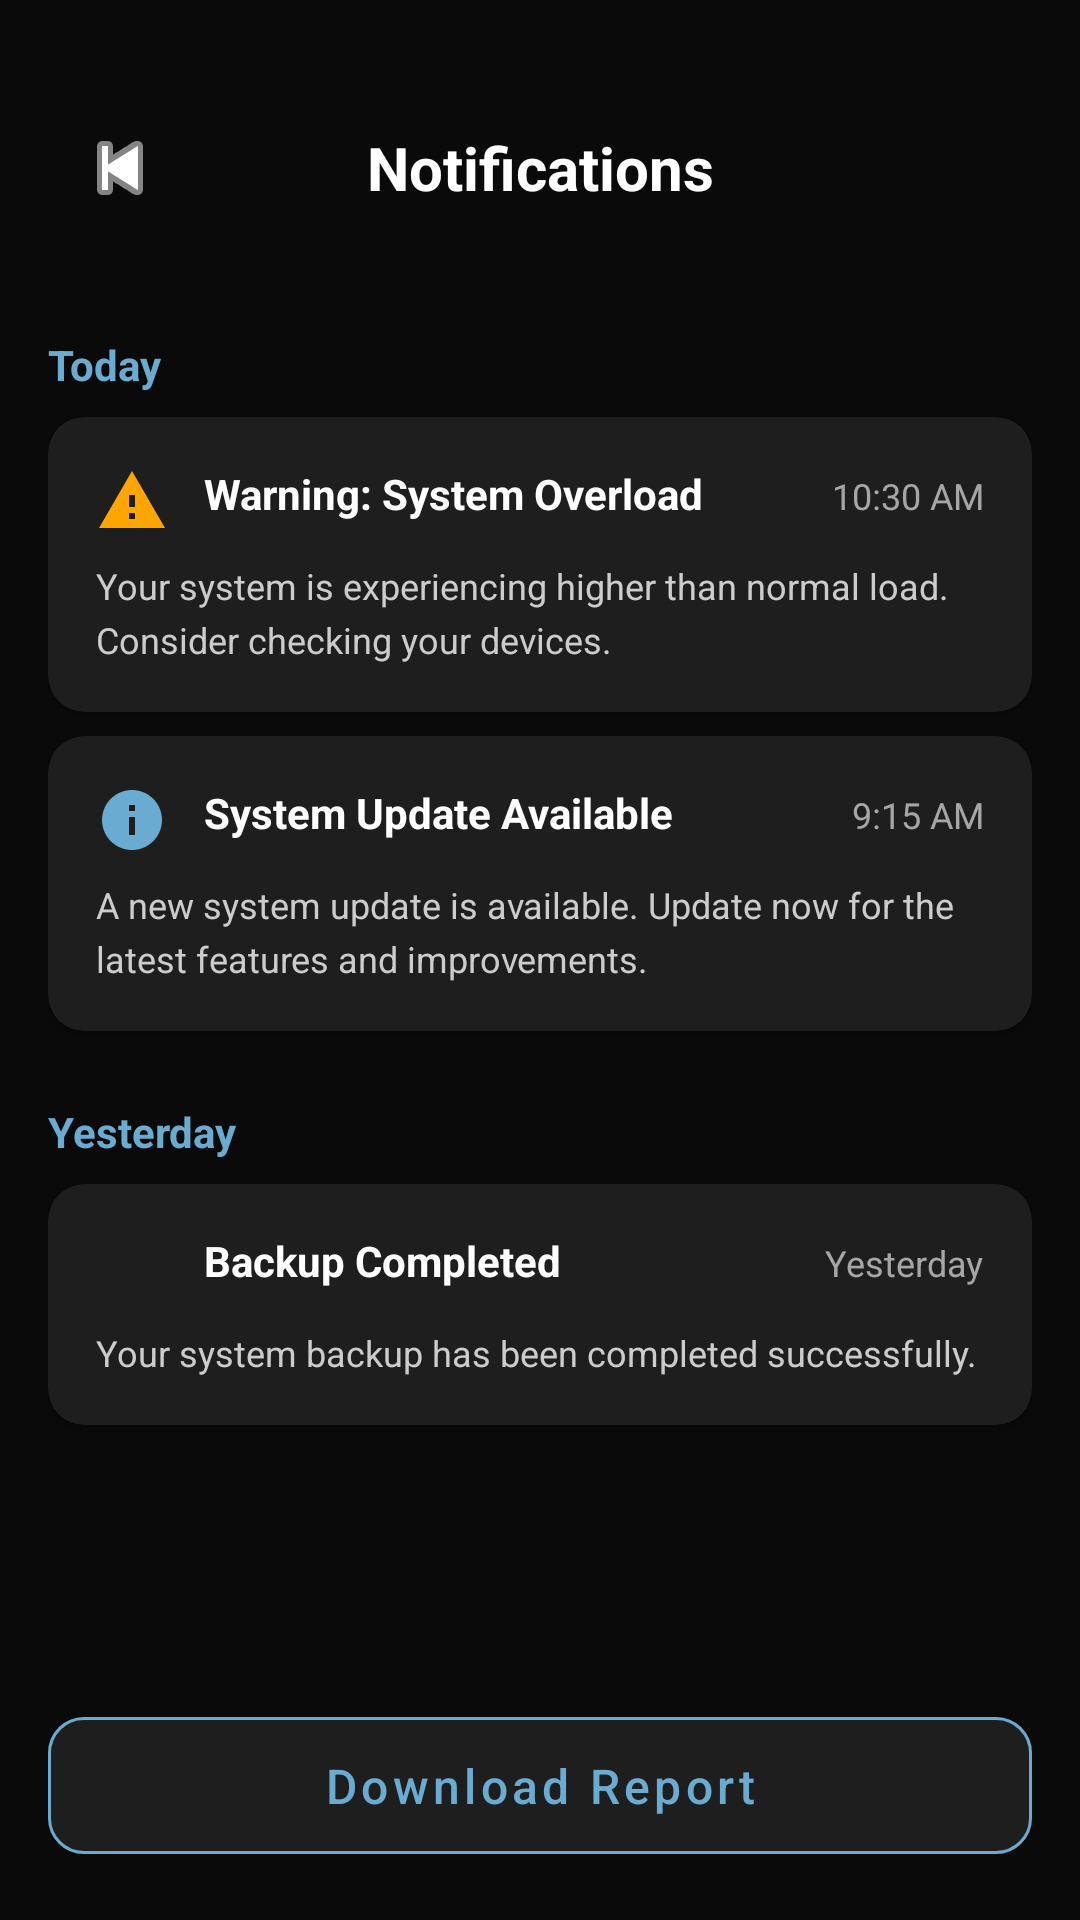

Named icons in this screenshot (1080×1920) and their bounding boxes, (x1, y1, x2, y2):
Back: (97, 141, 143, 195)
Information: (102, 790, 162, 850)
